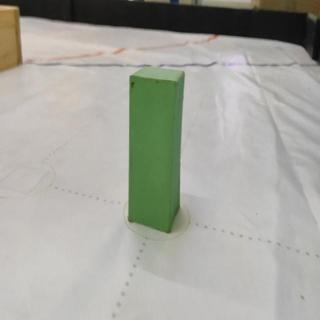greenbox: (126, 63, 186, 234)
